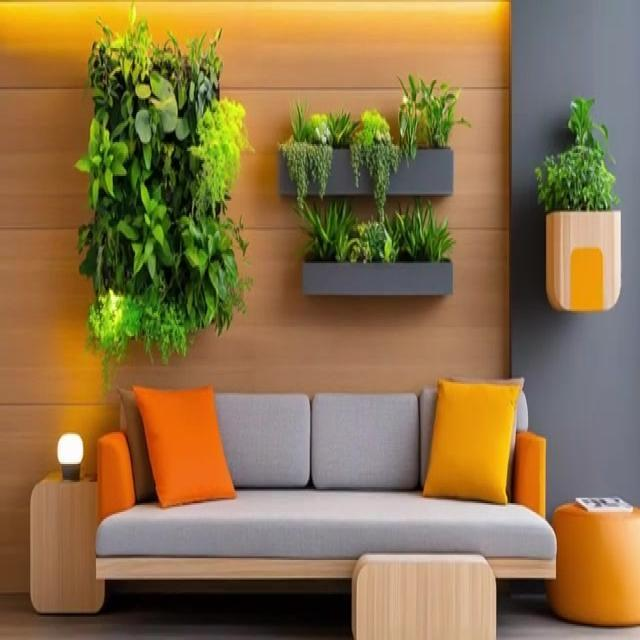obstacle: (94, 380, 557, 612), (29, 468, 104, 614)
